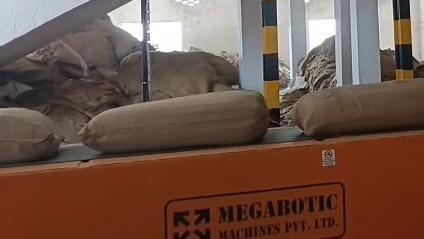box: (79, 89, 268, 153), (294, 79, 424, 138), (0, 108, 62, 164)
